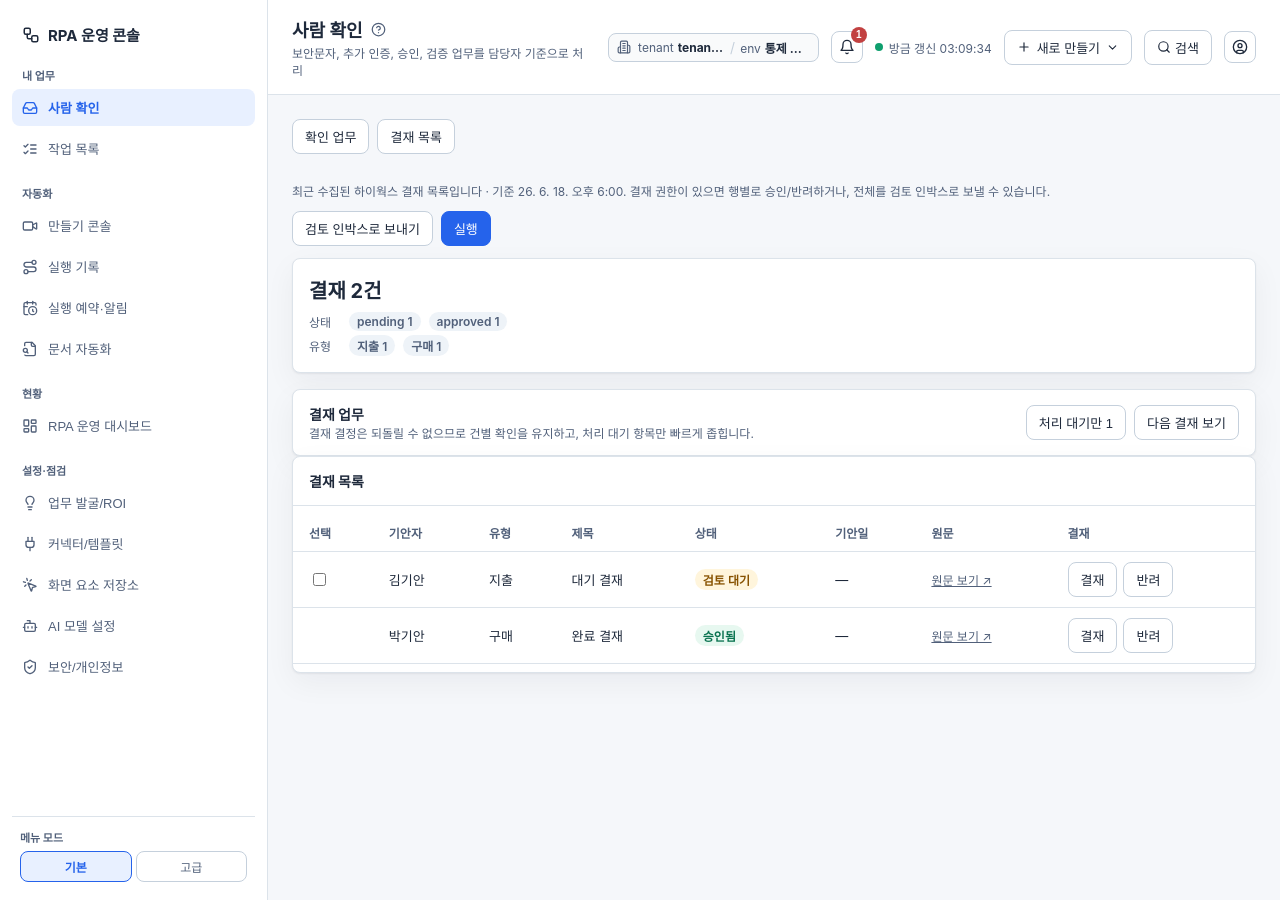
it: goal UX improvements › approval inbox can focus pending rows without adding unsafe bulk decisions
The image size is (1280, 900).
Expected: the text "대기 결재" is shown, [556,552,679,608]
Expected: the text "완료 결재" is shown, [556,608,679,664]
Click the button "처리 대기만 1" at (1076, 422), box [1026,405,1126,440]
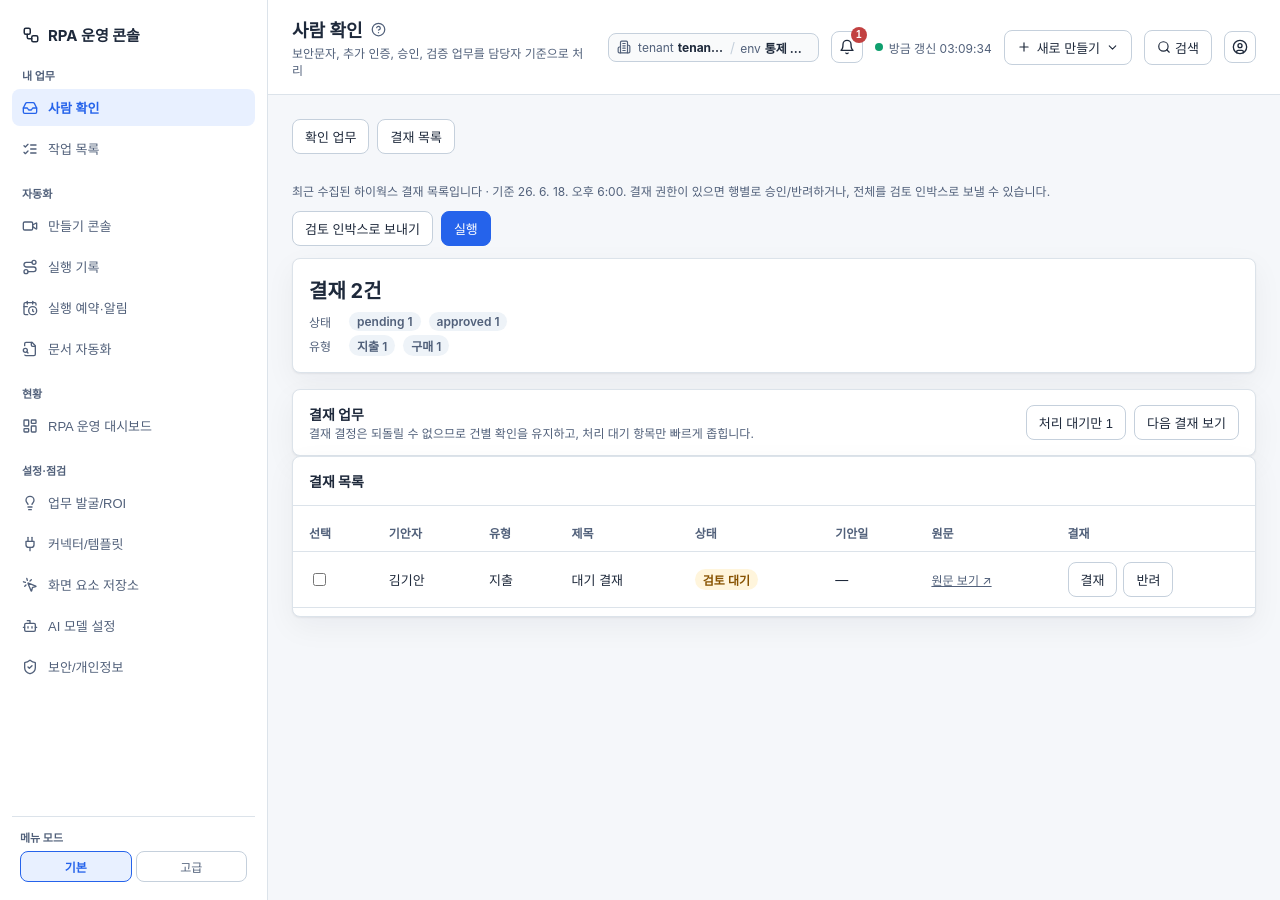
Now the text "완료 결재" is gone
